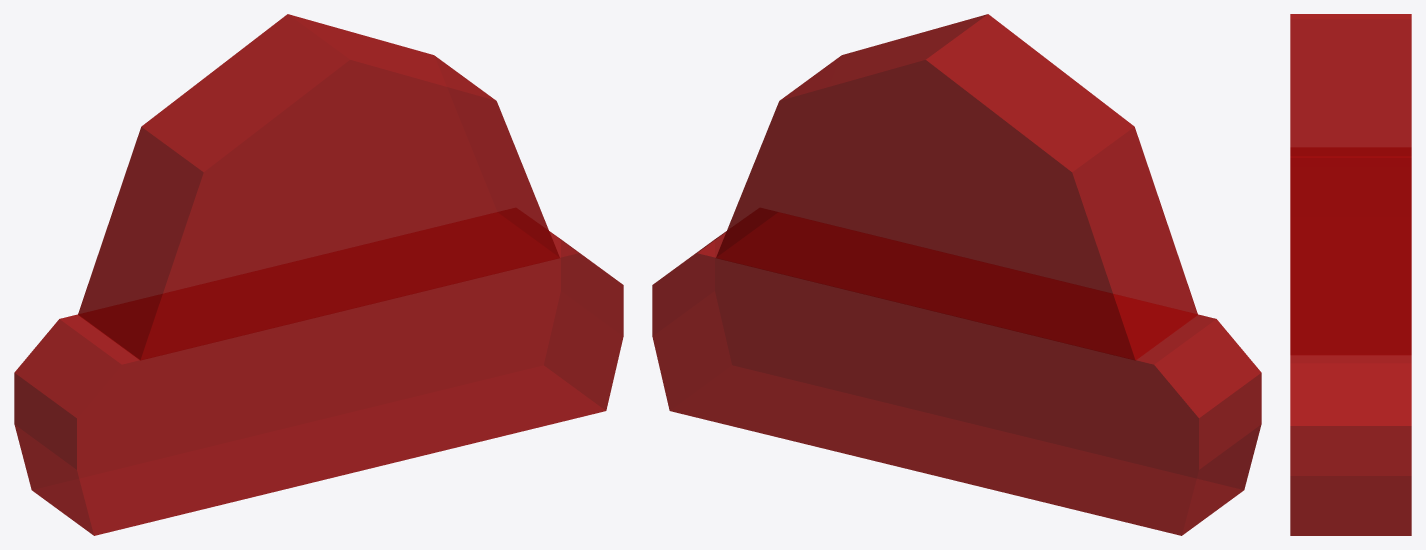
File: SM_Bld_Village_Edge_02_Collision.fbx
3 views of the same model, side by side, from view 1: azimuth 30°, elevation 25°; view 2: azimuth 150°, elevation 25°; view 3: azimuth 270°, elevation 25° (orthographic). The views are drawn at different scales.
Visible parts, largest first — view 1: SM_Bld_Village_Edge_02_Collision; view 2: SM_Bld_Village_Edge_02_Collision; view 3: SM_Bld_Village_Edge_02_Collision.
Boxes of the visible parts, x1,y1,x2,y2 form: SM_Bld_Village_Edge_02_Collision: (14,14,623,535); SM_Bld_Village_Edge_02_Collision: (652,14,1261,535); SM_Bld_Village_Edge_02_Collision: (1290,14,1411,535).
Bounding box in the file's own units: 256 × 185 × 50.79.
